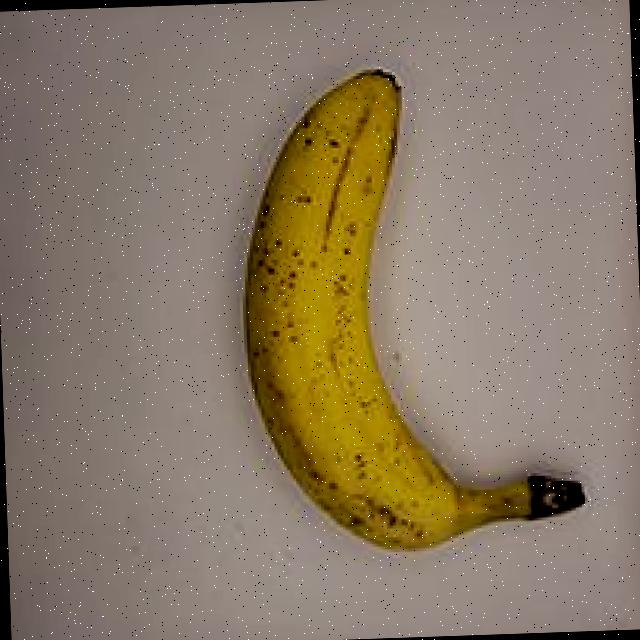Overripe: (204, 39, 600, 568)
